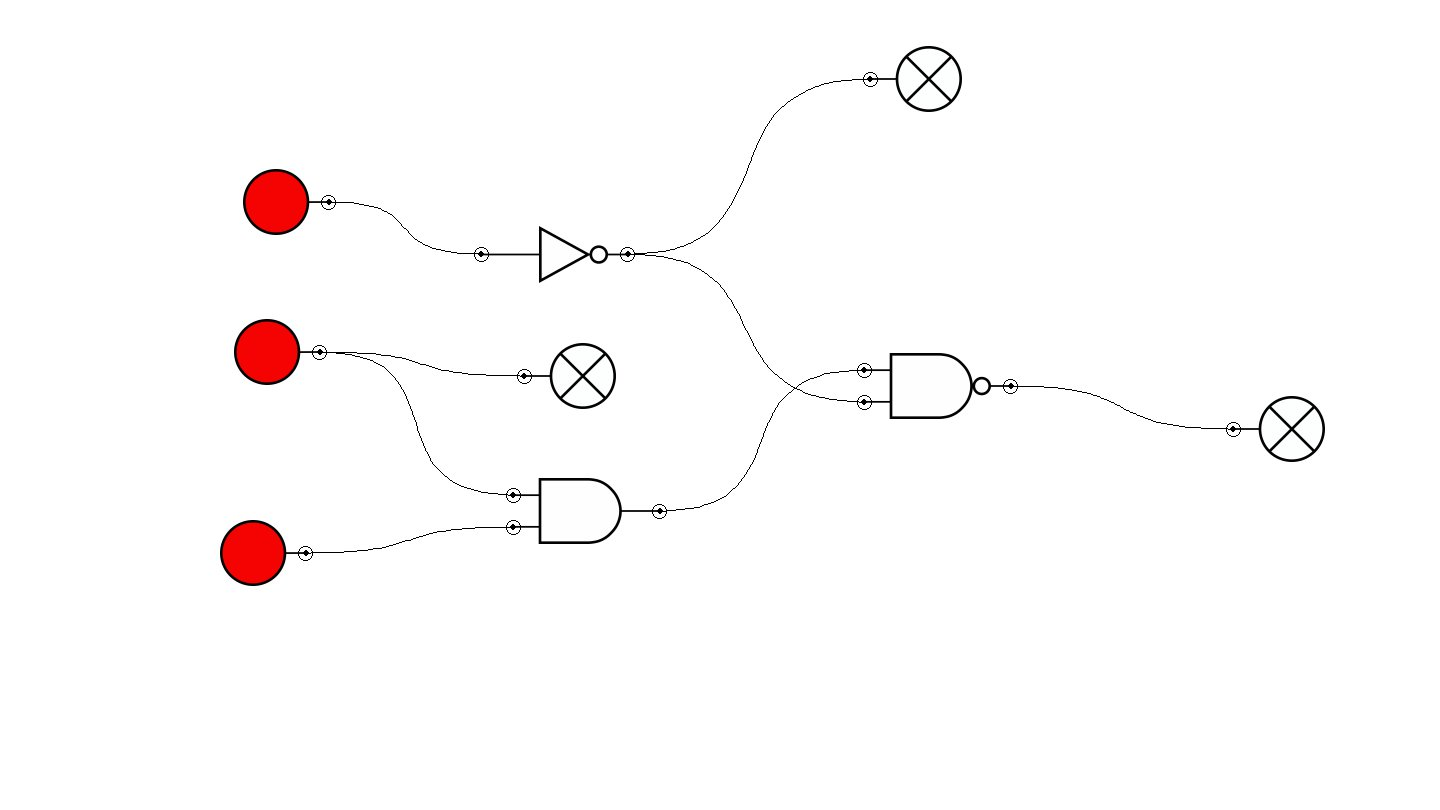and: (506, 478, 667, 544)
bulb: (1226, 396, 1325, 462), (517, 343, 616, 409), (863, 46, 962, 112)
nand: (857, 353, 1018, 419)
not: (474, 226, 635, 283)
switch_False: (234, 319, 327, 385), (220, 520, 313, 586), (243, 169, 336, 235)
